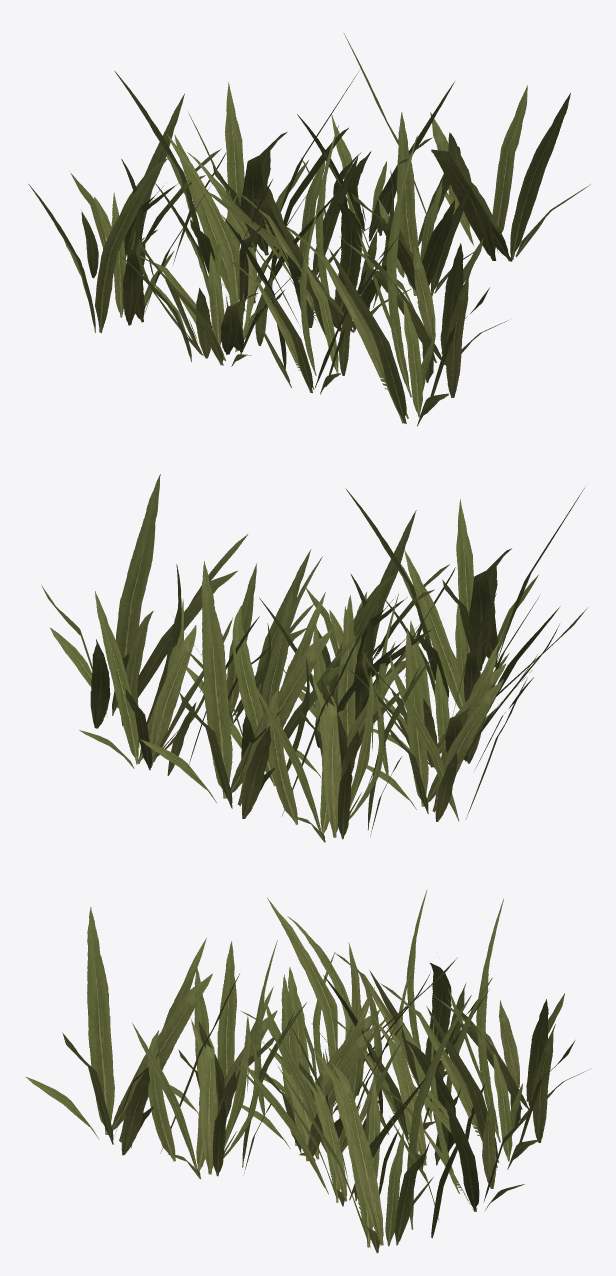
Rendered from low poly grass ver 1.fbx.
3 renders of one model, top to bottom at view 1: azimuth 30°, elevation 25°; view 2: azimuth 150°, elevation 25°; view 3: azimuth 270°, elevation 25°, orthographic. The views are drawn at different scales.
Parts seen in each view (by area): view 1: LowPoly_Grass:LowPoly_Grass; view 2: LowPoly_Grass:LowPoly_Grass; view 3: LowPoly_Grass:LowPoly_Grass.
Part boxes in pixels (x1,y1,x2,y2): LowPoly_Grass:LowPoly_Grass: [28, 33, 590, 426]; LowPoly_Grass:LowPoly_Grass: [41, 474, 587, 842]; LowPoly_Grass:LowPoly_Grass: [26, 889, 591, 1253].
Size of the model in its own units: 222 by 90.02 by 221.
1 material, 1 textured.
